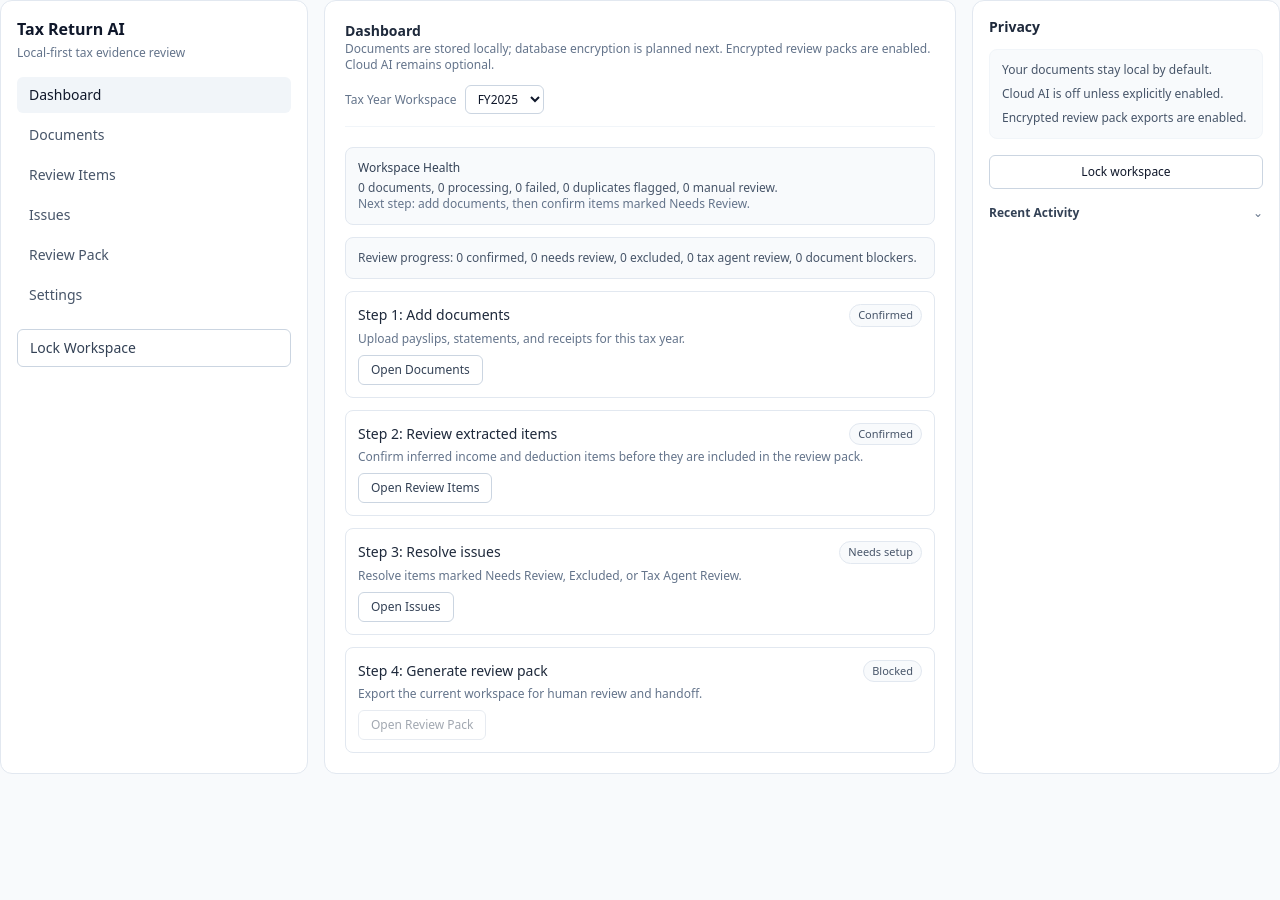
Test: WorkspaceApp API-backed states › opens workspace sections from dashboard actions without legacy route links
Select "FY2024" in the dropdown labelled "Tax Year Workspace" at (504, 100), box [465, 85, 544, 114]
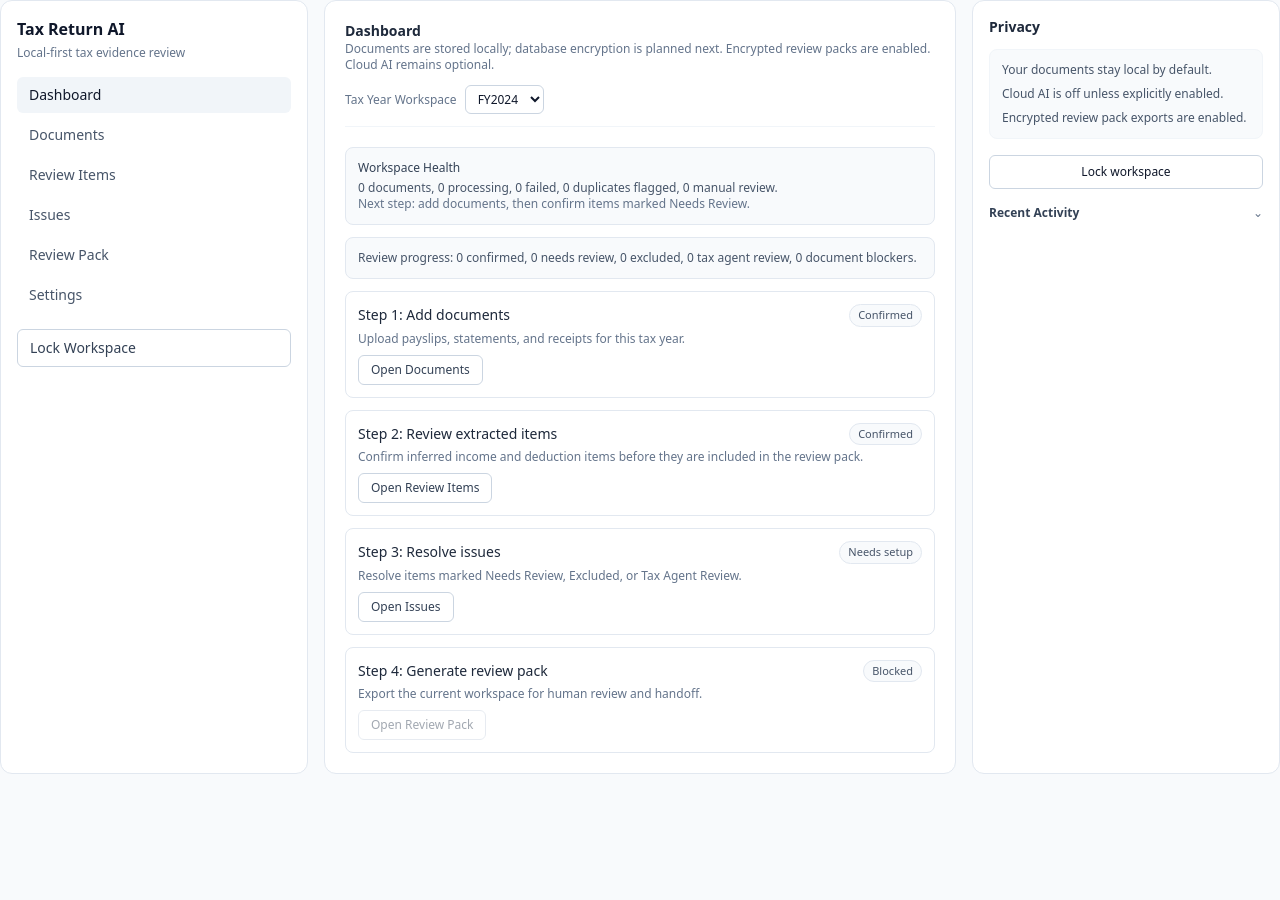
Click the button "Open Documents" at (420, 370), box [358, 354, 483, 384]
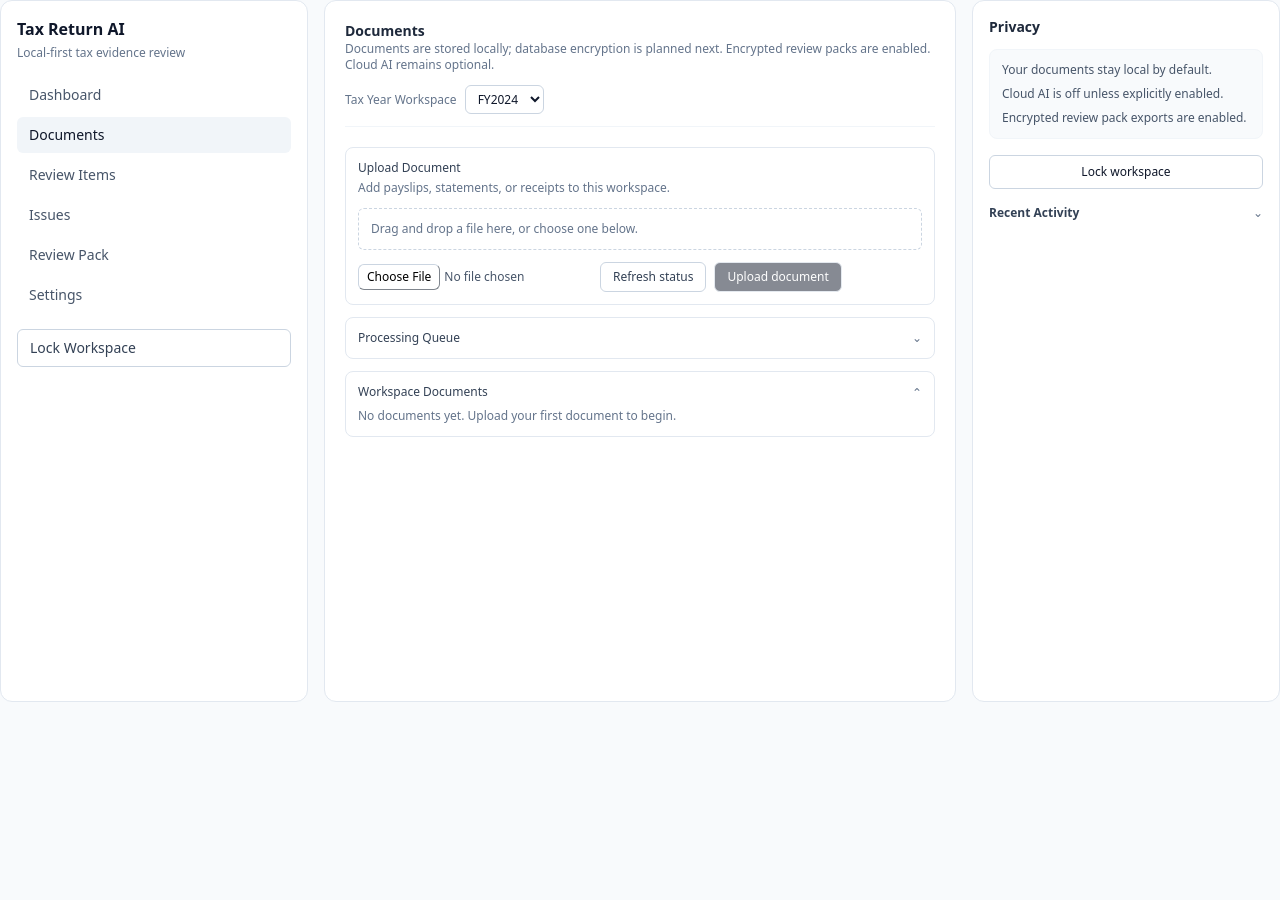
Check: the element with test id "documents-panel" is shown, box [345, 147, 935, 437]
Check: the text "Upload Document" is shown, box [358, 159, 461, 176]
Click the button "Review Items" at (72, 174), box [17, 157, 291, 193]
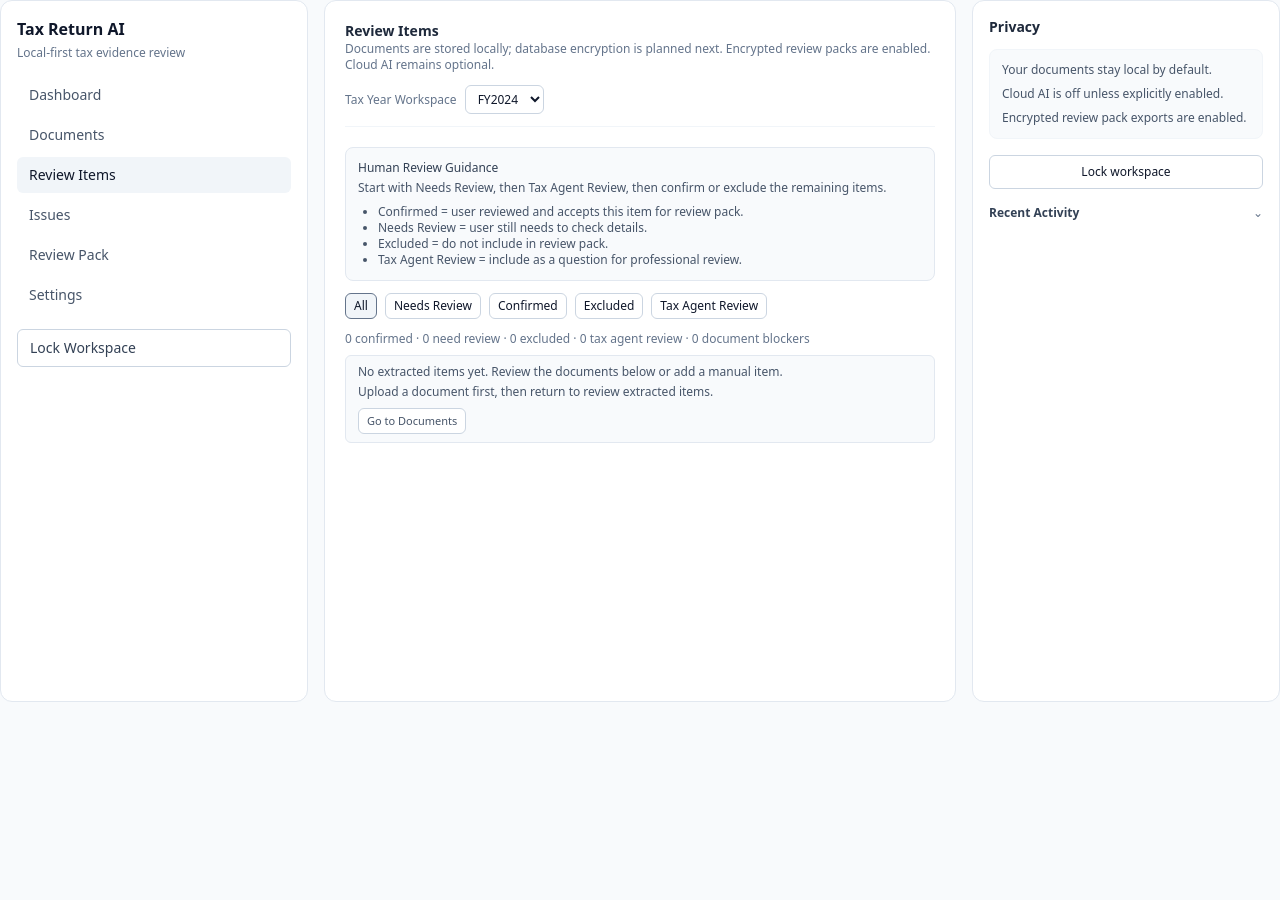
Check: the element with test id "review-items-panel" is shown, box [345, 147, 935, 443]
